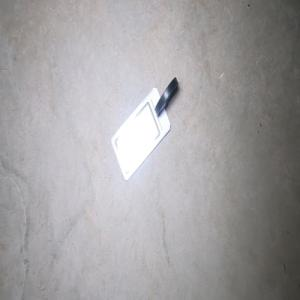LuggageTag: (110, 75, 179, 182)
